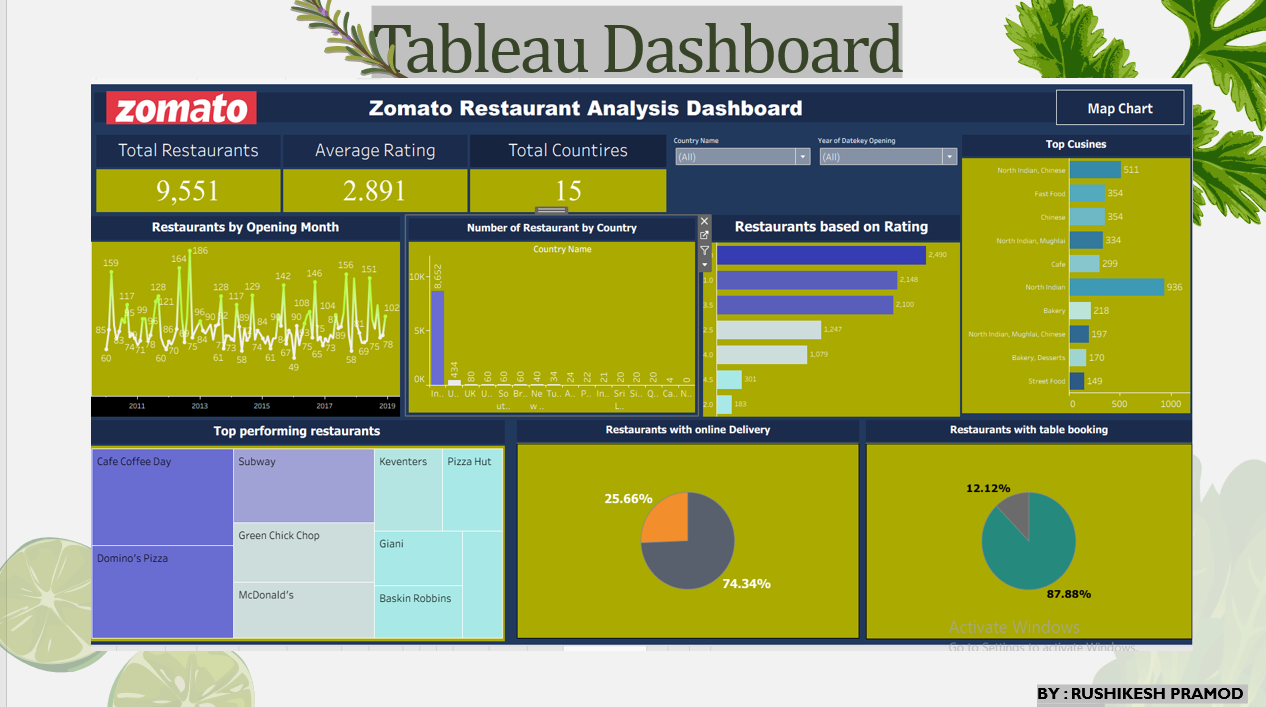

What the dashboard file says about the page in this screenshot:
{"tool":"tableau","page":{"name":"Dashboard 1","canvas":[1000,1000],"units":"permille","ordinal":0},"visuals":[{"type":"dashboard-object","box":[877.2,9.4,116,63]},{"type":"title","box":[4.8,9.9,893.8,62.9]},{"type":"text","box":[898.6,9.9,96.6,22.2]},{"type":"image","param":"Image/Zomato image.png","box":[10.6,12.1,149.6,59]},{"type":"worksheet","title":"CUSINES","mark":"Automatic","rows":["Cuisines"],"cols":["RestaurantID"],"box":[791.8,89.9,206.4,496.9]},{"type":"worksheet","title":"KPI 1","mark":"Automatic","box":[9.1,90,166.6,138.1]},{"type":"worksheet","title":"KPI 2 ","mark":"Automatic","box":[178,90,166.6,138.1]},{"type":"worksheet","title":"KPI 3","mark":"Automatic","box":[347,90,177.4,138.1]},{"type":"filter","title":"1","param":"[federated.1c66vmg1hbwwpp16xe0wp0gmyl41].[none:country name:nk]","box":[531.1,91.2,125.5,134.4]},{"type":"filter","title":"1","param":"[federated.1c66vmg1hbwwpp16xe0wp0gmyl41].[yr:Datekey_Opening:ok]","box":[661.4,91.2,127.9,131.9]},{"type":"worksheet","title":"RATING","mark":"Automatic","rows":["Rating (bin)"],"cols":["RestaurantID"],"box":[557.6,233.1,232.3,360.1]},{"type":"worksheet","title":"AVG","mark":"Bar","rows":["RestaurantID"],"cols":["country name"],"box":[288.9,233.7,264,356.9]},{"type":"worksheet","title":"RM","mark":"Automatic","rows":["RestaurantID"],"cols":["opening date"],"box":[4.2,236,279.4,357.1]},{"type":"worksheet","title":"1","mark":"Automatic","box":[2.7,599.6,376,394.9]},{"type":"worksheet","title":"ONLINE","mark":"Pie","box":[389.3,599.6,309.3,389.5]},{"type":"worksheet","title":"TABLE","mark":"Pie","box":[704.9,599.6,295.1,391.3]}]}

Visuals, with their boxes on the dashboard's canvas, which has no fixed pixel size, in thousandths of its width and height (x1, y1, x2, y2). These are canvas units, not pixel positions in the 1266x707 screenshot, which may show the page scaled, cropped or inside an application window:
dashboard-object: [877, 9, 993, 72]
title: [5, 10, 899, 73]
text: [899, 10, 995, 32]
image: [11, 12, 160, 71]
"CUSINES" worksheet: [792, 90, 998, 587]
"KPI 1" worksheet: [9, 90, 176, 228]
"KPI 2 " worksheet: [178, 90, 345, 228]
"KPI 3" worksheet: [347, 90, 524, 228]
"1" filter: [531, 91, 657, 226]
"1" filter: [661, 91, 789, 223]
"RATING" worksheet: [558, 233, 790, 593]
"AVG" worksheet (Bar marks): [289, 234, 553, 591]
"RM" worksheet: [4, 236, 284, 593]
"1" worksheet: [3, 600, 379, 994]
"ONLINE" worksheet (Pie marks): [389, 600, 699, 989]
"TABLE" worksheet (Pie marks): [705, 600, 1000, 991]
